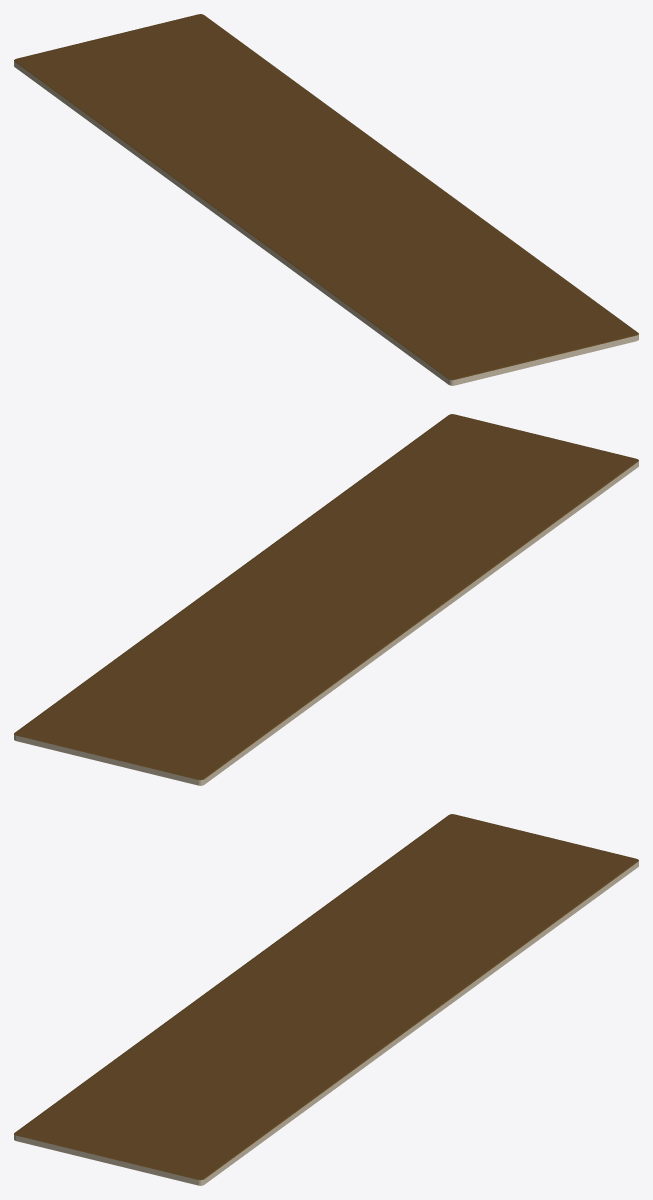
File: playSurface_01.fbx
3 views of the same model, one above another, from view 1: azimuth 30°, elevation 25°; view 2: azimuth 150°, elevation 25°; view 3: azimuth 330°, elevation 25° (orthographic).
Parts seen in each view (by area): view 1: playSurface; view 2: playSurface; view 3: playSurface.
Part boxes in pixels (box(x1,y1,x2,y2)): playSurface: box(14, 14, 638, 385); playSurface: box(14, 414, 638, 785); playSurface: box(14, 814, 638, 1185).
Size of the model in its own units: 0.6096 by 0.019 by 2.44.
